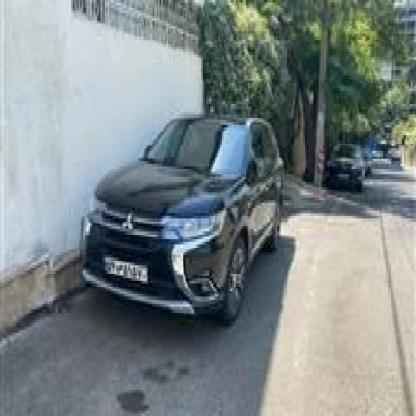Car: (71, 102, 290, 328), (317, 135, 371, 203)
